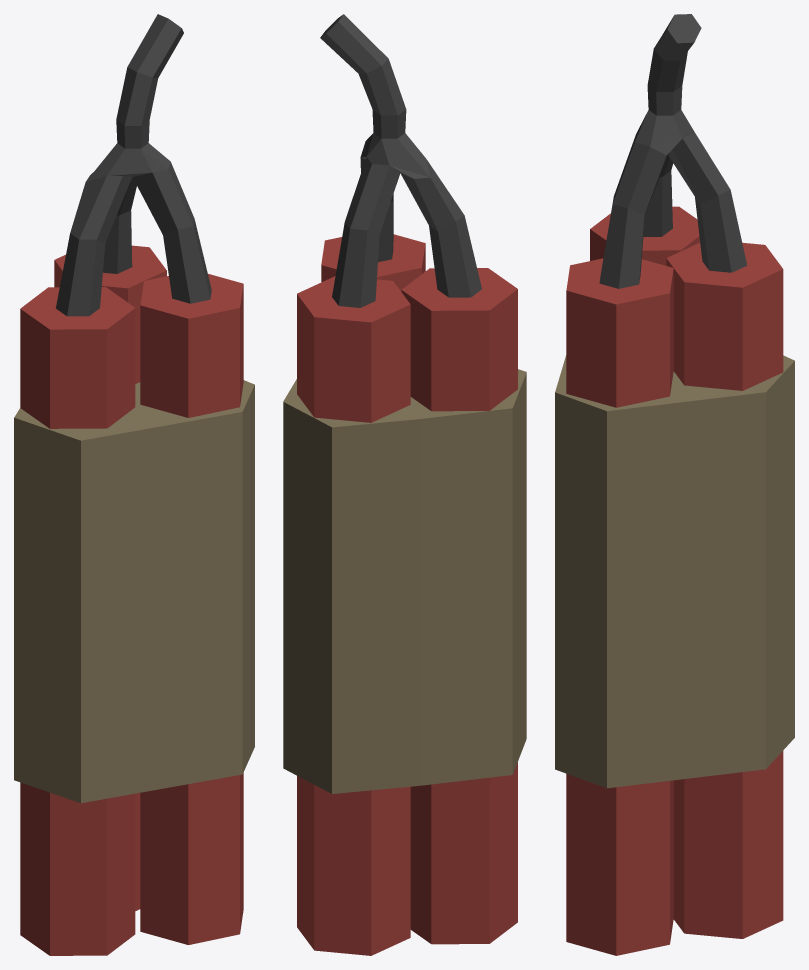
Rendered from Dynamite.fbx.
3 renders of one model, left to right at view 1: azimuth 30°, elevation 25°; view 2: azimuth 150°, elevation 25°; view 3: azimuth 270°, elevation 25°, orthographic. The views are drawn at different scales.
Parts seen in each view (by area): view 1: Cube.007; view 2: Cube.007; view 3: Cube.007.
Boxes of the visible parts, <box> form: Cube.007: <box>14,14,254,955</box>; Cube.007: <box>283,14,526,955</box>; Cube.007: <box>555,14,794,955</box>.
Bounding box in the file's own units: 103 × 406 × 96.1.
